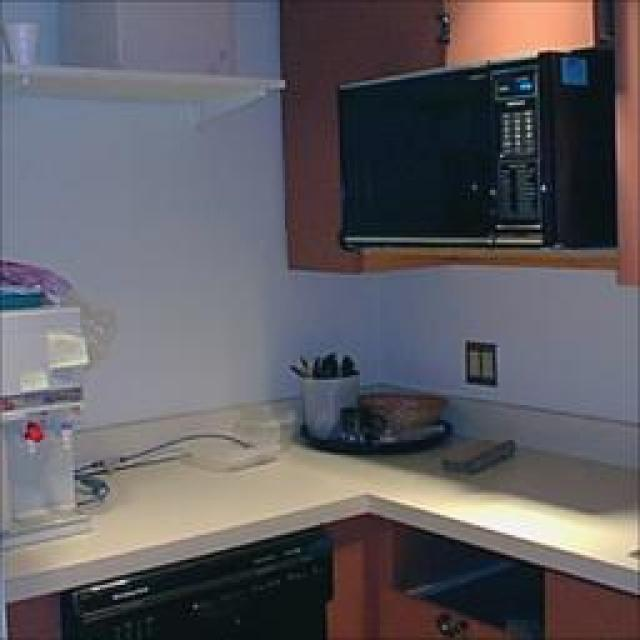counter: (2, 422, 635, 578)
dish with lobsters: (58, 525, 328, 635)
microwave: (332, 42, 615, 252)
mug: (338, 405, 382, 442)
